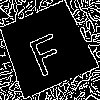F: (22, 24, 69, 78)
